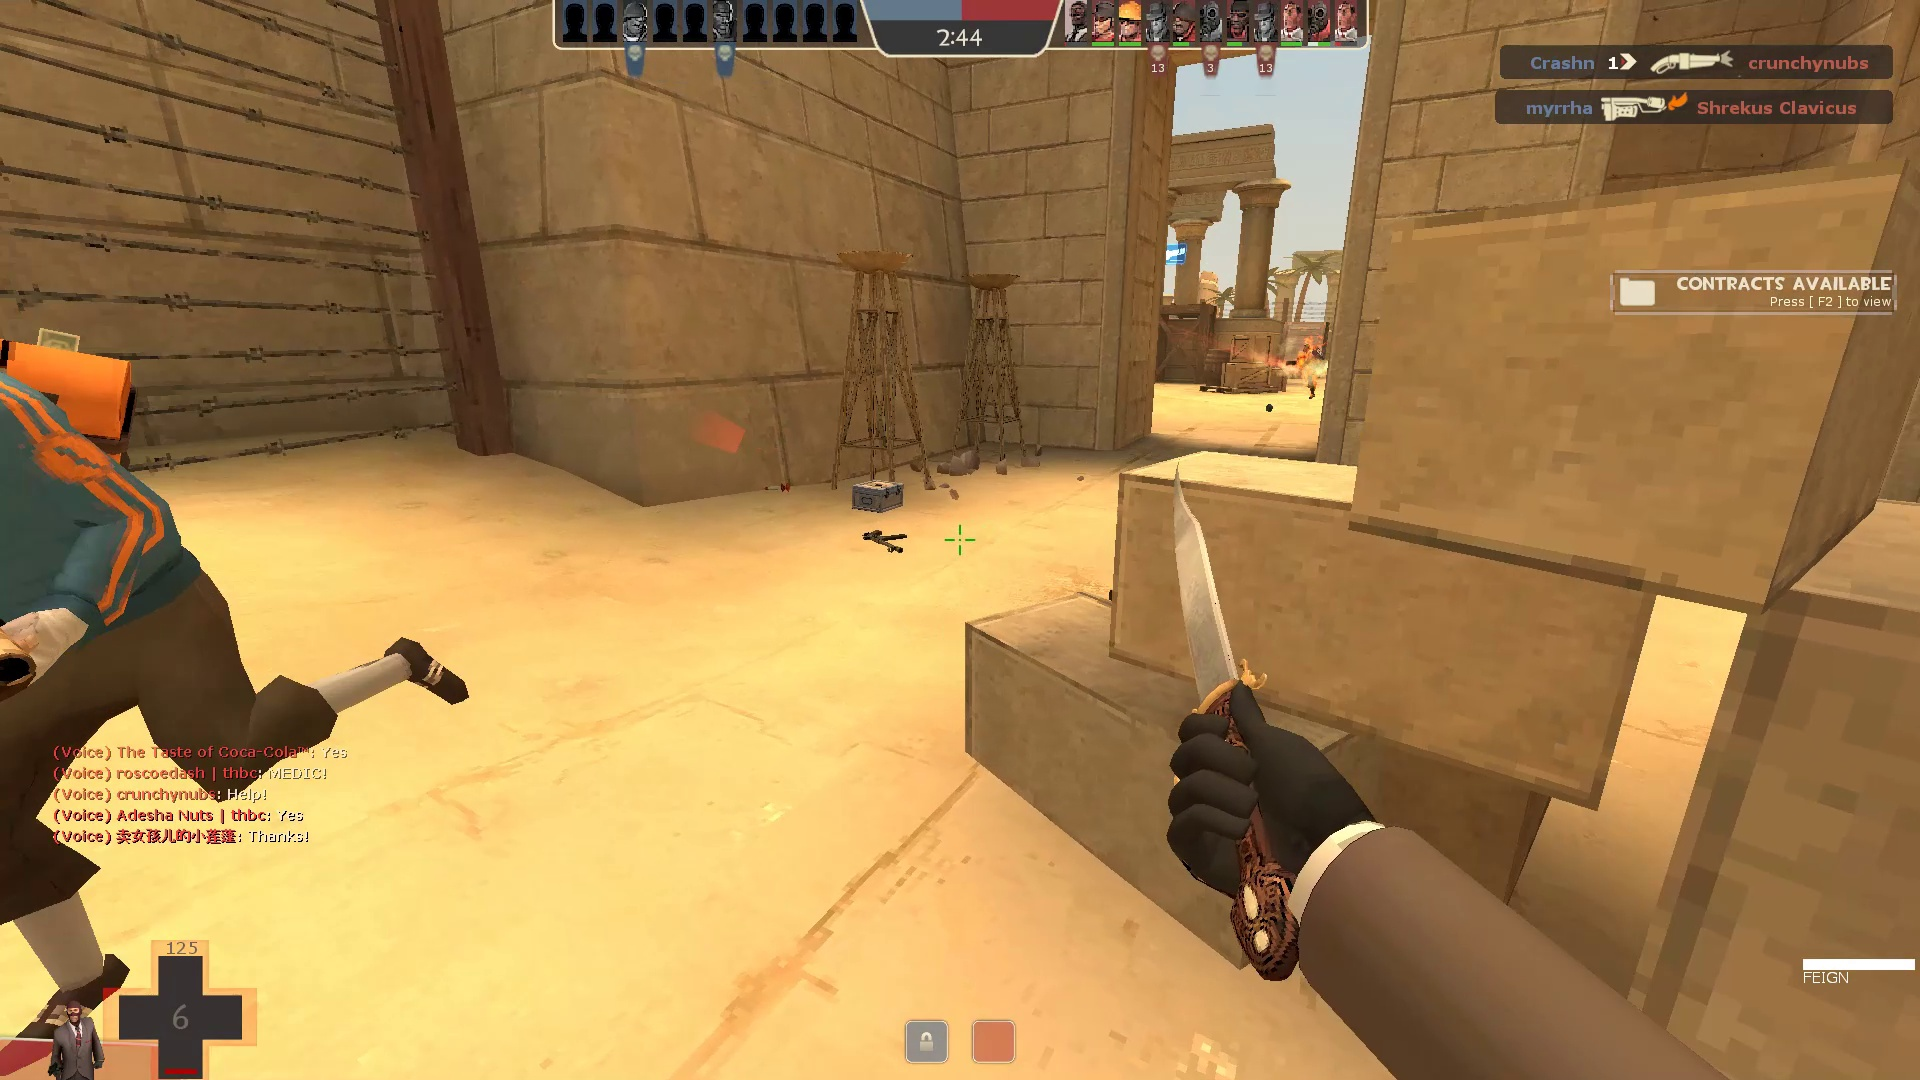blu_scout: (1, 324, 488, 1080)
red_medic: (1280, 338, 1336, 401)
